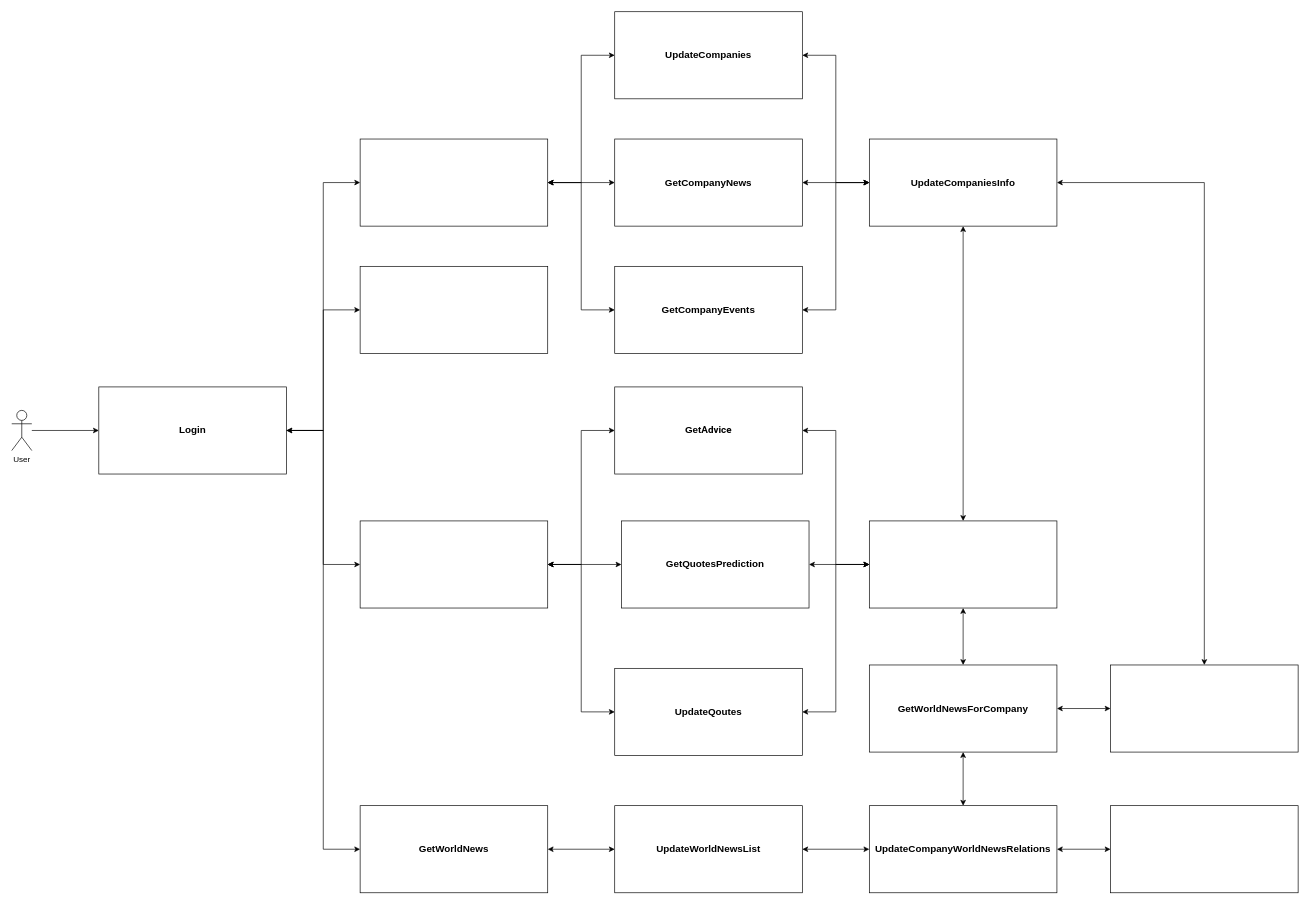
Some shapes in this 1310 by 905 pixel diagram are drawn without their labels. The centre of each missing label's shape, as x and y in pixels:
CalculateQuotesPrediction: (963,564)
CalculateWorldNewsEffectForCompany: (1204,708)
GetCompanies: (453,182)
GetQuotes: (453,564)
GetWorldNewsTone: (1204,849)
Logout: (453,309)
